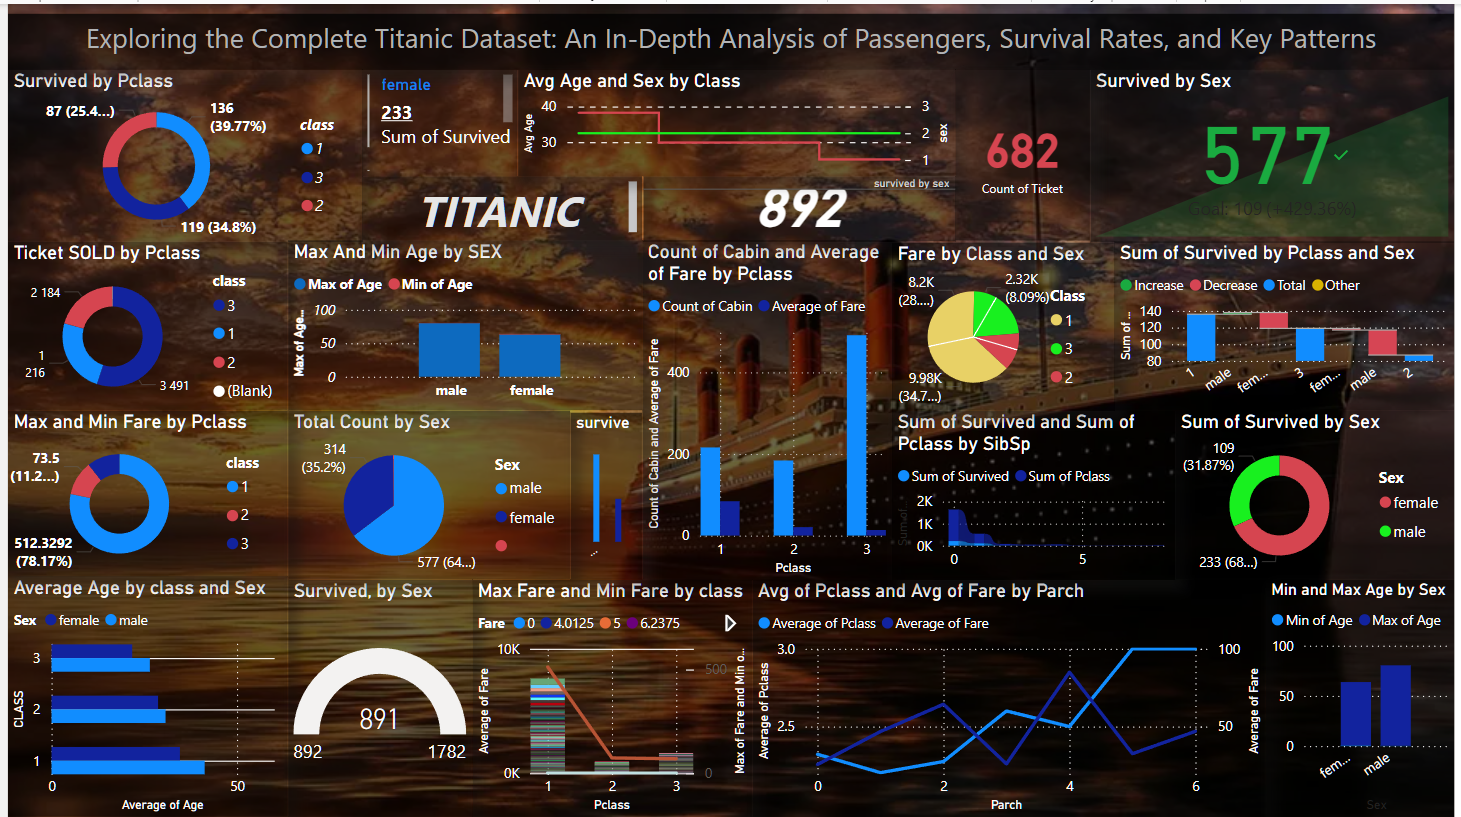

What the dashboard file says about the page in this screenshot:
{"tool":"powerbi","page":{"name":"Page 1","canvas":[1280,720],"ordinal":0},"visuals":[{"type":"clusteredBarChart","title":"Average Age by class and Sex","fields":{"Category":["titanic.Pclass"],"Y":["titanic.Age"],"Series":["titanic.Sex"]},"box":[0,506.5,247.9,213.2],"z":0},{"type":"donutChart","title":"Survived by Pclass","fields":{"Category":["titanic.Pclass"],"Y":["titanic.Survived"]},"box":[0,57.9,313.6,152.4],"z":1000},{"type":"donutChart","title":"Ticket SOLD by Pclass","fields":{"Category":["titanic.Pclass"],"Y":["titanic.Ticket"]},"box":[0,210.3,247.9,149.5],"z":2000},{"type":"donutChart","title":"Max and Min Fare by Pclass","fields":{"Y":["titanic.Fare","Sum(titanic.Fare)1"],"Category":["titanic.Pclass"]},"box":[0,359.9,247.9,146.6],"z":3000},{"type":"gauge","title":"Survived, by Sex","fields":{"Y":["titanic.Survived"],"MinValue":["titanic.Sex"]},"box":[247.9,509.4,163,210.3],"z":4000},{"type":"pieChart","title":"Total Count by Sex","fields":{"Category":["titanic.Sex"],"Y":["titanic.Sex"]},"box":[247.9,359.9,249.9,149.5],"z":5000},{"type":"multiRowCard","fields":{"Values":["titanic.Survived","titanic.Sex"]},"box":[313.6,57.9,138,94.5],"z":6000},{"type":"columnChart","title":"Max And Min Age by SEX","fields":{"Y":["Sum(titanic.Age)1","titanic.Age"],"Category":["titanic.Sex"]},"box":[247.9,209.4,313.6,150.5],"z":7000},{"type":"lineStackedColumnComboChart","title":"Max Fare and Min Fare by class","fields":{"Y2":["titanic.Fare","Sum(titanic.Fare)1"],"Series":["titanic.Fare"],"Category":["titanic.Pclass"],"Y":["Sum(titanic.Fare)2"]},"box":[411,509.4,247.9,210.3],"z":8000},{"type":"lineChart","title":"Avg of Pclass and Avg of Fare by Parch","fields":{"Category":["titanic.Parch"],"Y":["titanic.Pclass"],"Y2":["titanic.Fare"]},"box":[658.9,509.4,454.4,210.3],"z":9000},{"type":"textbox","box":[313.6,152.4,247.9,56.9],"z":10000},{"type":"textbox","box":[0,8.7,1280.3,49.2],"z":11000},{"type":"clusteredColumnChart","fields":{"Category":["titanic.Pclass"],"Y":["titanic.Cabin","titanic.Fare"]},"box":[561.5,209.4,220.9,300],"z":12000},{"type":"ribbonChart","fields":{"Category":["titanic.SibSp"],"Y":["titanic.Survived","titanic.Pclass"]},"box":[782.4,359.9,250.8,149.5],"z":13000},{"type":"clusteredColumnChart","title":"survive ","fields":{"Category":["titanic.Sex"],"Y":["titanic.Pclass"],"Series":["titanic.Sex"]},"box":[497.8,361.8,63.7,147.6],"z":14000},{"type":"donutChart","fields":{"Category":["titanic.Sex"],"Y":["titanic.Survived"]},"box":[1033.3,359.9,247,149.5],"z":15000},{"type":"card","title":"survived by sex","fields":{"Values":["titanic.Name"]},"box":[562,152.4,275.9,57.9],"z":16000},{"type":"kpi","title":"Survived by Sex","fields":{"TrendLine":["titanic.Sex"],"Goal":["titanic.Survived"],"Indicator":["titanic.Survived"]},"box":[958,57.9,322.2,153.4],"z":17000},{"type":"pieChart","title":"Fare by Class and Sex","fields":{"Y":["titanic.Fare"],"Category":["titanic.Pclass"],"Series":["titanic.Sex"]},"box":[782.4,211.3,196.8,148.6],"z":18000},{"type":"waterfallChart","fields":{"Category":["titanic.Pclass"],"Y":["titanic.Survived"],"Breakdown":["titanic.Sex"]},"box":[979.2,210.3,301,149.5],"z":19000},{"type":"lineChart","title":"Avg Age and Sex by Class","fields":{"Category":["titanic.Pclass"],"Y":["titanic.Age"],"Y2":["titanic.Sex"]},"box":[451.5,57.9,386.9,94.5],"z":20000},{"type":"columnChart","title":"Min and Max Age by Sex","fields":{"Category":["titanic.Sex"],"Y":["titanic.Age","titanic.Age"]},"box":[1113.4,509.4,166.9,210.3],"z":21000},{"type":"card","fields":{"Values":["titanic.Ticket"]},"box":[838.4,57.9,119.6,151.5],"z":22000}]}

Visuals, with their boxes in screenshot pixels (x1, y1, x2, y2), scaled from the page's 1280x720 canvas onto the 1461x817 screenshot:
"Average Age by class and Sex" clusteredBarChart: [0,575,283,816]
"Survived by Pclass" donutChart: [0,66,358,239]
"Ticket SOLD by Pclass" donutChart: [0,239,283,408]
"Max and Min Fare by Pclass" donutChart: [0,408,283,575]
"Survived, by Sex" gauge: [283,578,469,816]
"Total Count by Sex" pieChart: [283,408,568,578]
multiRowCard - titanic.Survived x titanic.Sex: [358,66,515,173]
"Max And Min Age by SEX" columnChart: [283,238,641,408]
"Max Fare and Min Fare by class" lineStackedColumnComboChart: [469,578,752,816]
"Avg of Pclass and Avg of Fare by Parch" lineChart: [752,578,1271,816]
textbox: [358,173,641,237]
textbox: [0,10,1460,66]
clusteredColumnChart - titanic.Pclass x titanic.Cabin: [641,238,893,578]
ribbonChart - titanic.SibSp x titanic.Survived: [893,408,1179,578]
"survive " clusteredColumnChart: [568,411,641,578]
donutChart - titanic.Sex x titanic.Survived: [1179,408,1460,578]
"survived by sex" card: [641,173,956,239]
"Survived by Sex" kpi: [1093,66,1460,240]
"Fare by Class and Sex" pieChart: [893,240,1118,408]
waterfallChart - titanic.Pclass x titanic.Survived: [1118,239,1460,408]
"Avg Age and Sex by Class" lineChart: [515,66,957,173]
"Min and Max Age by Sex" columnChart: [1271,578,1460,816]
card - titanic.Ticket: [957,66,1093,238]
